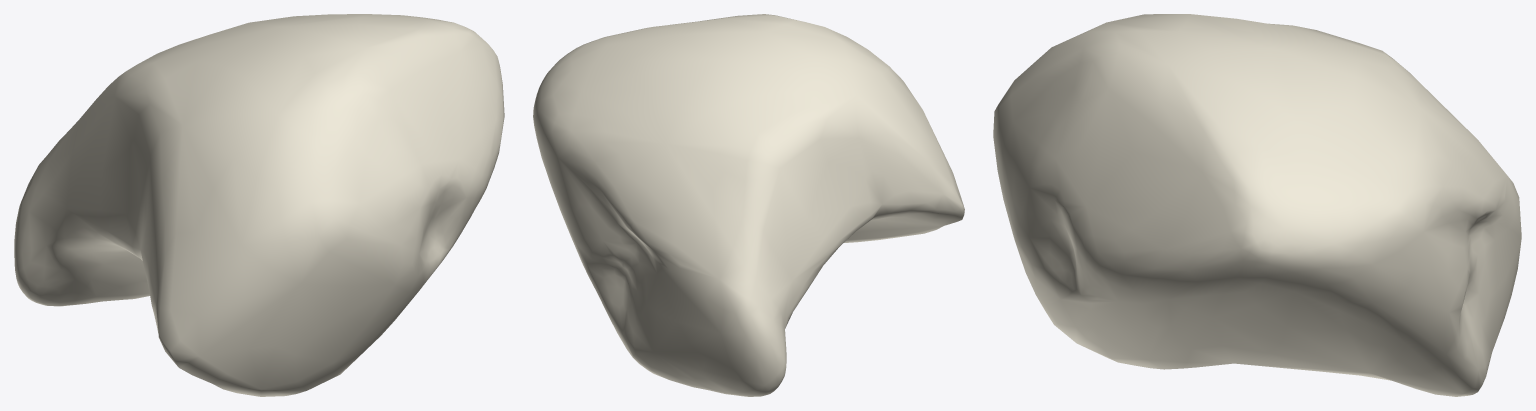
3 renders of one model, left to right at view 1: azimuth 30°, elevation 25°; view 2: azimuth 150°, elevation 25°; view 3: azimuth 270°, elevation 25°, orthographic. The views are drawn at different scales.
Visible parts, largest first — view 1: ZA_0fb4cef4d6ede9ce; view 2: ZA_0fb4cef4d6ede9ce; view 3: ZA_0fb4cef4d6ede9ce.
Boxes of the visible parts, <box> form: ZA_0fb4cef4d6ede9ce: <box>14,14,504,396</box>; ZA_0fb4cef4d6ede9ce: <box>533,14,964,396</box>; ZA_0fb4cef4d6ede9ce: <box>993,14,1521,396</box>.
Bounding box in the file's own units: 0.0171 × 0.0127 × 0.0166.
